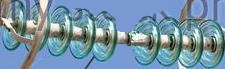gap: (91, 11, 160, 66)
